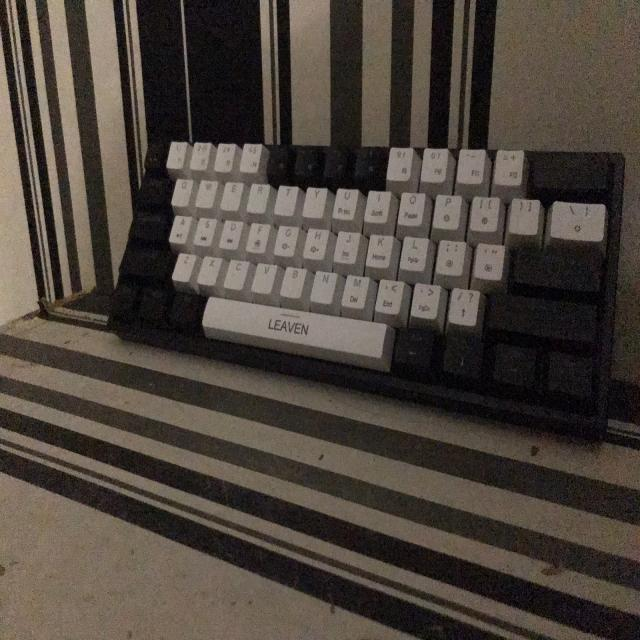-mouse-: (103, 137, 625, 443)
